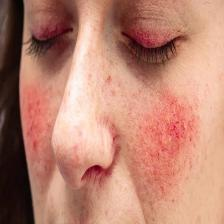Sensitif: (21, 0, 224, 224)
